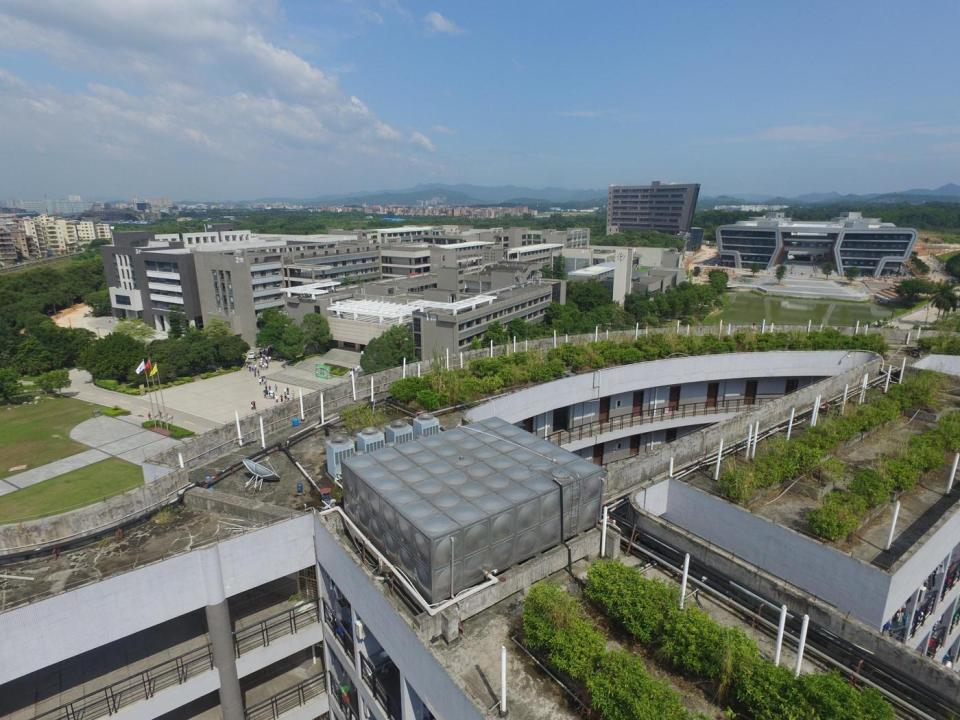car: (276, 354, 295, 361), (248, 351, 255, 359), (107, 316, 112, 324)
